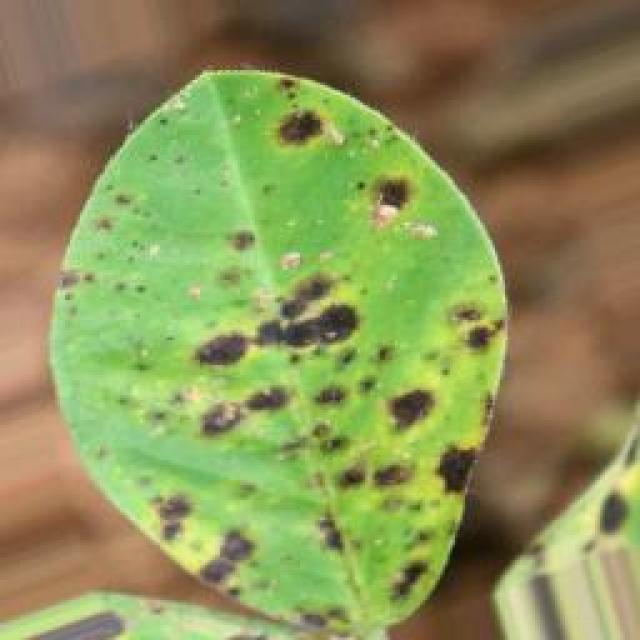Yellowish: (48, 55, 482, 640)
